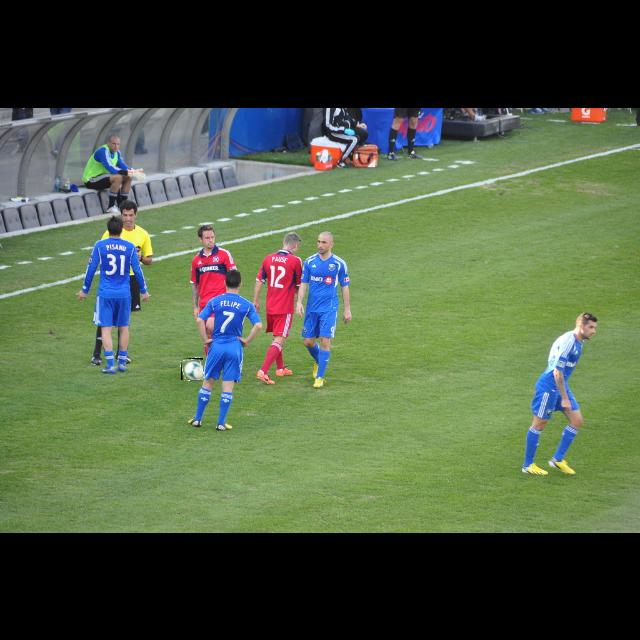Football: (181, 358, 203, 380)
